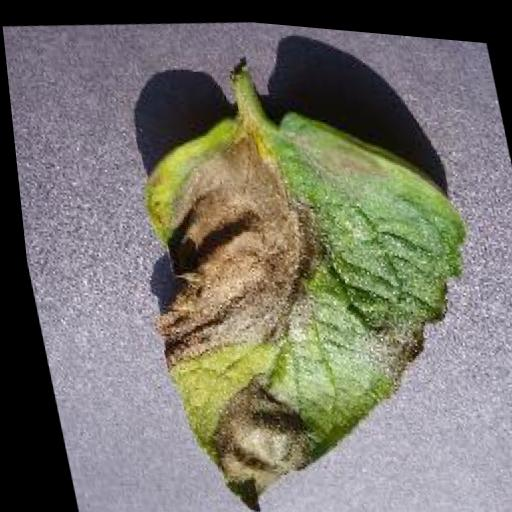Late Blight: (105, 78, 512, 512)
